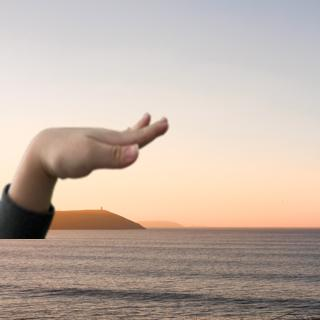Wait: (23, 106, 174, 183)
